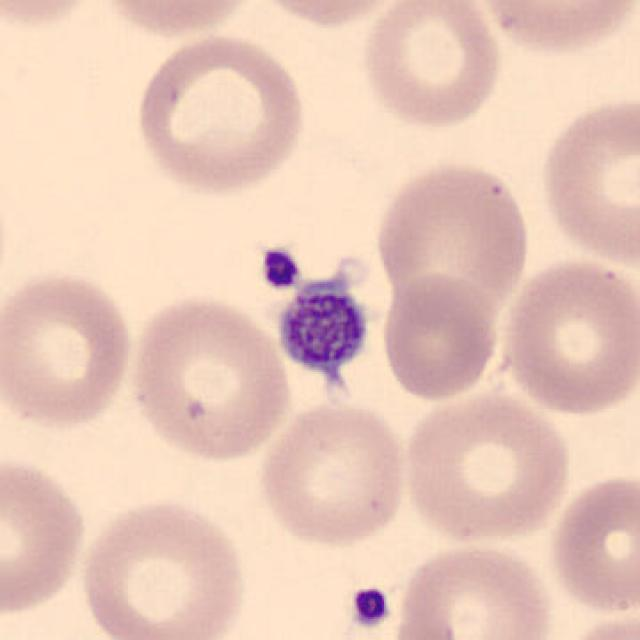platelets: (283, 286, 369, 390)
rbc: (130, 290, 296, 476), (141, 27, 309, 184), (83, 493, 254, 640), (2, 278, 146, 436), (368, 161, 524, 302), (409, 401, 566, 538), (506, 259, 640, 414), (366, 0, 504, 133), (396, 537, 567, 640), (272, 406, 404, 538), (379, 276, 497, 403), (0, 455, 89, 611), (545, 110, 640, 250), (558, 465, 640, 617), (498, 0, 640, 68), (103, 0, 254, 42), (0, 0, 92, 46), (277, 0, 382, 35)
